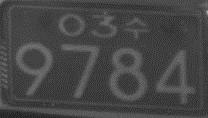0: (58, 12, 85, 37)
3: (89, 13, 117, 39)
4: (155, 48, 195, 105)
7: (60, 43, 100, 98)
8: (108, 46, 148, 103)
9: (15, 40, 52, 94)
수: (124, 14, 147, 39)
